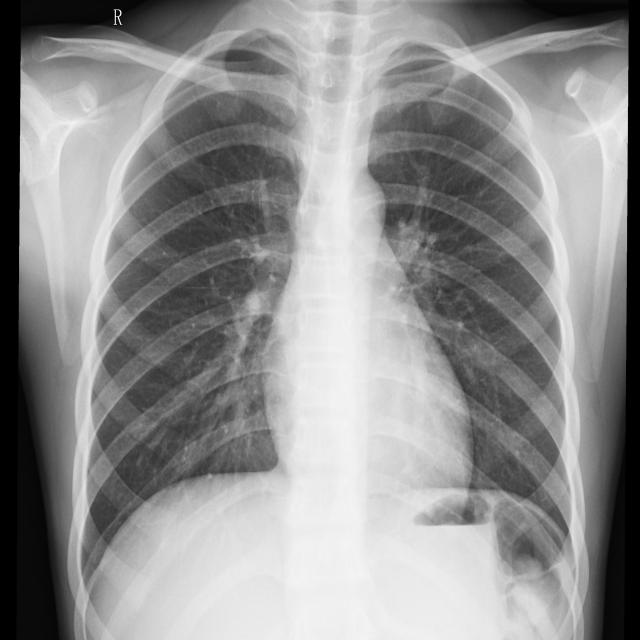no-pneumonia: (82, 33, 301, 583), (370, 45, 570, 573)
